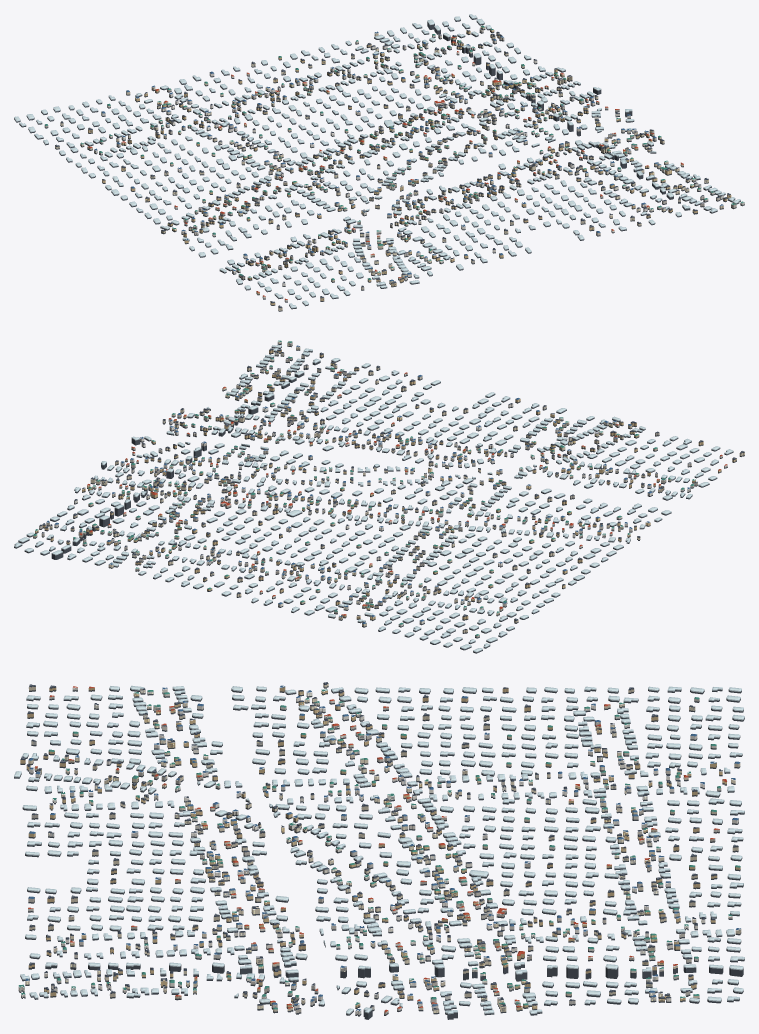
The model's file is osm_buildings_T_W02_N00.glb.
The picture shows the model from 3 angles, top to bottom: view 1: azimuth 30°, elevation 25°; view 2: azimuth 150°, elevation 25°; view 3: azimuth 270°, elevation 25°; orthographic projection. The views are drawn at different scales.
Visible parts, largest first — view 1: OSM_T_W02_N00_greenhouse_blend_p0, OSM_T_W02_N00_foundation, OSM_T_W02_N00_wall_cream_stucco, OSM_T_W02_N00_wall_french_ochre, OSM_T_W02_N00_roof_mansard_slate, OSM_T_W02_N00_wall_warm_white, OSM_T_W02_N00_wall_pastel_sand, OSM_T_W02_N00_roof_alpine_blue, OSM_T_W02_N00_roof_mint_metal, OSM_T_W02_N00_greenhouse_blend_p1, OSM_T_W02_N00_roof_mansard_deck, OSM_T_W02_N00_roof_terracotta; view 2: OSM_T_W02_N00_greenhouse_blend_p0, OSM_T_W02_N00_foundation, OSM_T_W02_N00_wall_french_ochre, OSM_T_W02_N00_wall_cream_stucco, OSM_T_W02_N00_roof_mansard_slate, OSM_T_W02_N00_wall_warm_white, OSM_T_W02_N00_wall_pastel_sand, OSM_T_W02_N00_roof_alpine_blue, OSM_T_W02_N00_roof_mint_metal, OSM_T_W02_N00_greenhouse_blend_p1, OSM_T_W02_N00_roof_mansard_deck, OSM_T_W02_N00_roof_terracotta; view 3: OSM_T_W02_N00_greenhouse_blend_p0, OSM_T_W02_N00_foundation, OSM_T_W02_N00_wall_french_ochre, OSM_T_W02_N00_wall_cream_stucco, OSM_T_W02_N00_roof_mansard_slate, OSM_T_W02_N00_wall_warm_white, OSM_T_W02_N00_wall_pastel_sand, OSM_T_W02_N00_roof_alpine_blue, OSM_T_W02_N00_roof_mint_metal, OSM_T_W02_N00_greenhouse_blend_p1, OSM_T_W02_N00_roof_mansard_deck, OSM_T_W02_N00_roof_terracotta.
Boxes of the visible parts, left/top/right/bottom form: OSM_T_W02_N00_greenhouse_blend_p0: left=19, top=25, right=740, bottom=308; OSM_T_W02_N00_foundation: left=14, top=16, right=744, bottom=311; OSM_T_W02_N00_wall_cream_stucco: left=55, top=26, right=723, bottom=310; OSM_T_W02_N00_wall_french_ochre: left=88, top=29, right=731, bottom=304; OSM_T_W02_N00_roof_mansard_slate: left=55, top=28, right=730, bottom=308; OSM_T_W02_N00_wall_warm_white: left=94, top=32, right=744, bottom=301; OSM_T_W02_N00_wall_pastel_sand: left=44, top=29, right=736, bottom=289; OSM_T_W02_N00_roof_alpine_blue: left=94, top=31, right=723, bottom=281; OSM_T_W02_N00_roof_mint_metal: left=45, top=25, right=744, bottom=280; OSM_T_W02_N00_greenhouse_blend_p1: left=14, top=14, right=484, bottom=121; OSM_T_W02_N00_roof_mansard_deck: left=56, top=33, right=729, bottom=307; OSM_T_W02_N00_roof_terracotta: left=88, top=36, right=683, bottom=299; OSM_T_W02_N00_greenhouse_blend_p0: left=26, top=345, right=733, bottom=647; OSM_T_W02_N00_foundation: left=14, top=343, right=744, bottom=653; OSM_T_W02_N00_wall_french_ochre: left=35, top=350, right=736, bottom=619; OSM_T_W02_N00_wall_cream_stucco: left=33, top=347, right=744, bottom=632; OSM_T_W02_N00_roof_mansard_slate: left=39, top=348, right=744, bottom=630; OSM_T_W02_N00_wall_warm_white: left=39, top=341, right=727, bottom=626; OSM_T_W02_N00_wall_pastel_sand: left=41, top=341, right=697, bottom=637; OSM_T_W02_N00_roof_alpine_blue: left=46, top=345, right=690, bottom=623; OSM_T_W02_N00_roof_mint_metal: left=33, top=340, right=695, bottom=635; OSM_T_W02_N00_greenhouse_blend_p1: left=14, top=537, right=482, bottom=652; OSM_T_W02_N00_roof_mansard_deck: left=42, top=348, right=743, bottom=619; OSM_T_W02_N00_roof_terracotta: left=80, top=371, right=727, bottom=615; OSM_T_W02_N00_greenhouse_blend_p0: left=14, top=685, right=734, bottom=1014; OSM_T_W02_N00_foundation: left=14, top=686, right=744, bottom=1019; OSM_T_W02_N00_wall_french_ochre: left=20, top=687, right=740, bottom=1010; OSM_T_W02_N00_wall_cream_stucco: left=25, top=683, right=741, bottom=1012; OSM_T_W02_N00_roof_mansard_slate: left=20, top=682, right=738, bottom=1009; OSM_T_W02_N00_wall_warm_white: left=21, top=688, right=738, bottom=1014; OSM_T_W02_N00_wall_pastel_sand: left=18, top=689, right=732, bottom=1014; OSM_T_W02_N00_roof_alpine_blue: left=25, top=685, right=740, bottom=1011; OSM_T_W02_N00_roof_mint_metal: left=18, top=689, right=740, bottom=1009; OSM_T_W02_N00_greenhouse_blend_p1: left=707, top=687, right=744, bottom=1001; OSM_T_W02_N00_roof_mansard_deck: left=21, top=682, right=737, bottom=1001; OSM_T_W02_N00_roof_terracotta: left=28, top=686, right=726, bottom=1012.
Bounding box in the file's own units: 1969 × 67.03 × 1908.
